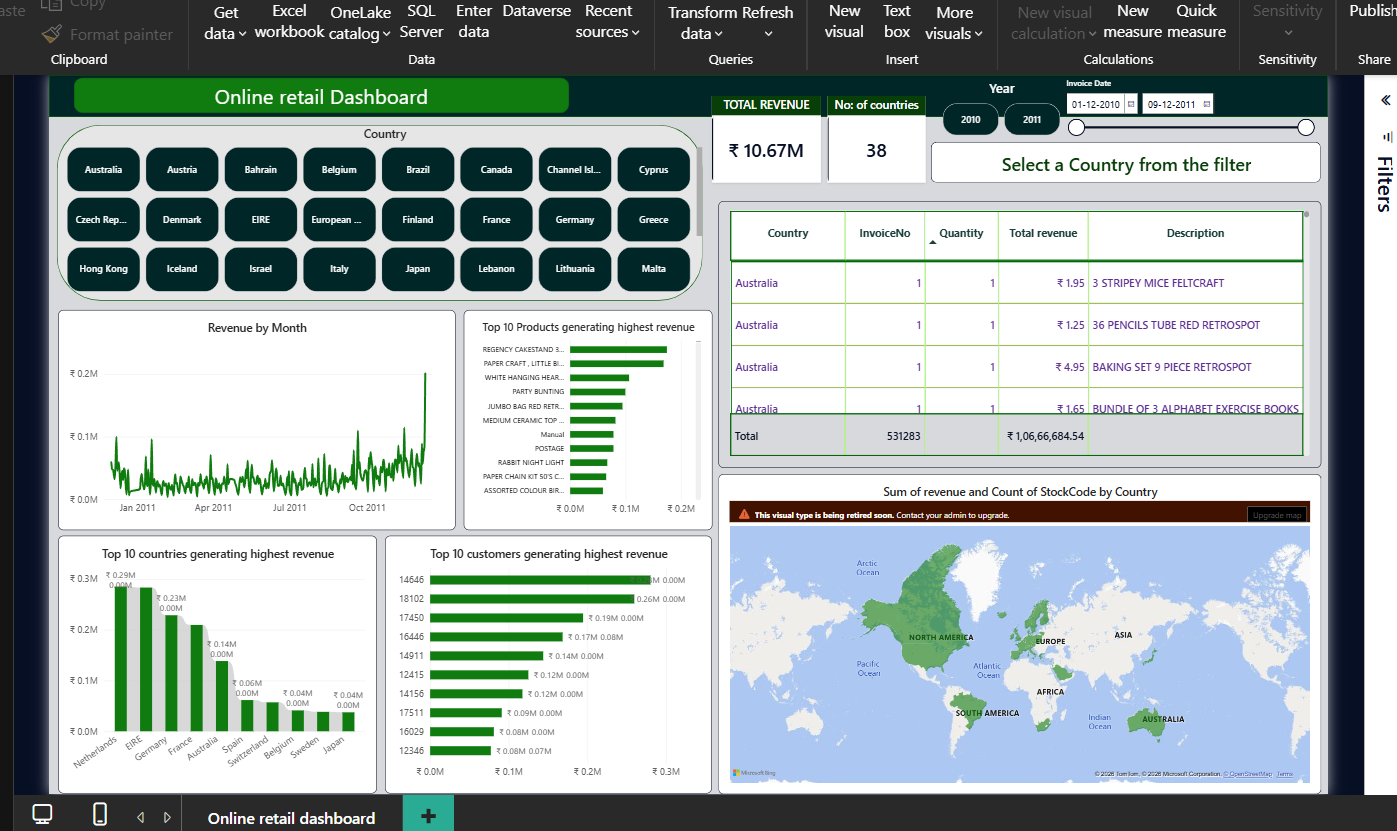

The page's visual inventory and layout, read from the dashboard file:
{"tool":"powerbi","page":{"name":"Online retail dashboard","canvas":[1920,1080],"ordinal":0},"visuals":[{"type":"shape","box":[0,0,1920.2,63],"z":0},{"type":"shape","box":[11.8,74.9,969.5,264],"z":1000},{"type":"slicer","fields":{"Values":["Online Retail.InvoiceDate Hierarchy.InvoiceDate"]},"box":[1519.2,3.9,384.2,114.3],"z":2000},{"type":"shape","box":[37.4,4.9,743.4,53.2],"z":3000},{"type":"advancedSlicerVisual","title":"Year","fields":{"Values":["Online Retail.year"]},"box":[1341.9,5.9,177.3,84.7],"z":4000},{"type":"advancedSlicerVisual","title":"Country","fields":{"Values":["Online Retail.Country"]},"box":[27.6,74.9,953.7,252.2],"z":5000},{"type":"lineChart","title":"Revenue by  Month","fields":{"Category":["Online Retail.InvoiceDate Hierarchy.InvoiceDate"],"Y":["Sum(Online Retail.revenue)"]},"box":[13.6,353.6,596.3,330.6],"z":6000},{"type":"columnChart","title":"Top 10 countries generating highest revenue","fields":{"Category":["Online Retail.Country"],"Y":["Sum(Online Retail.revenue)"]},"box":[13.6,692.6,478.1,387.1],"z":7000},{"type":"clusteredBarChart","title":"Top 10 customers generating highest revenue","fields":{"Category":["Online Retail.CustomerID"],"Y":["Sum(Online Retail.revenue)"]},"box":[505.3,692.6,490.6,387.1],"z":8000},{"type":"filledMap","fields":{"Category":["Online Retail.Country"]},"box":[1004.4,598.7,905,480.5],"z":9000},{"type":"cardVisual","title":"TOTAL REVENUE","fields":{"Data":["Sum(Online Retail.revenue)"]},"box":[995.1,31.5,163.5,130.1],"z":10000},{"type":"cardVisual","title":"No: of countries","fields":{"Data":["Count(Online Retail.Country)"]},"box":[1168.5,31.5,147.8,130.1],"z":11000},{"type":"clusteredBarChart","title":"Top 10 Products generating highest revenue","fields":{"Category":["Online Retail.Description"],"Y":["Sum(Online Retail.revenue)"]},"box":[622.5,353.6,373.5,330.6],"z":12000},{"type":"tableEx","fields":{"Values":["Online Retail.Country","Online Retail.InvoiceNo","Online Retail.Quantity","Sum(Online Retail.revenue)","Online Retail.Description"]},"box":[1004.4,190,905,400.8],"z":12001},{"type":"cardVisual","fields":{"Data":["Online Retail.Name_of_Country"]},"box":[1324.2,100.5,585.2,61.1],"z":12002}]}

Visuals, with their boxes on the page's 1920x1080 design canvas (x1, y1, x2, y2). These are canvas units, not pixel positions in the 1397x831 screenshot, which may show the page scaled, cropped or inside an application window:
shape: [0, 0, 1920, 63]
shape: [12, 75, 981, 339]
slicer - Online Retail.InvoiceDate Hierarchy.InvoiceDate: [1519, 4, 1903, 118]
shape: [37, 5, 781, 58]
"Year" advancedSlicerVisual: [1342, 6, 1519, 91]
"Country" advancedSlicerVisual: [28, 75, 981, 327]
"Revenue by  Month" lineChart: [14, 354, 610, 684]
"Top 10 countries generating highest revenue" columnChart: [14, 693, 492, 1080]
"Top 10 customers generating highest revenue" clusteredBarChart: [505, 693, 996, 1080]
filledMap - Online Retail.Country: [1004, 599, 1909, 1079]
"TOTAL REVENUE" cardVisual: [995, 32, 1159, 162]
"No: of countries" cardVisual: [1168, 32, 1316, 162]
"Top 10 Products generating highest revenue" clusteredBarChart: [622, 354, 996, 684]
tableEx - Online Retail.Country x Online Retail.InvoiceNo: [1004, 190, 1909, 591]
cardVisual - Online Retail.Name_of_Country: [1324, 100, 1909, 162]
